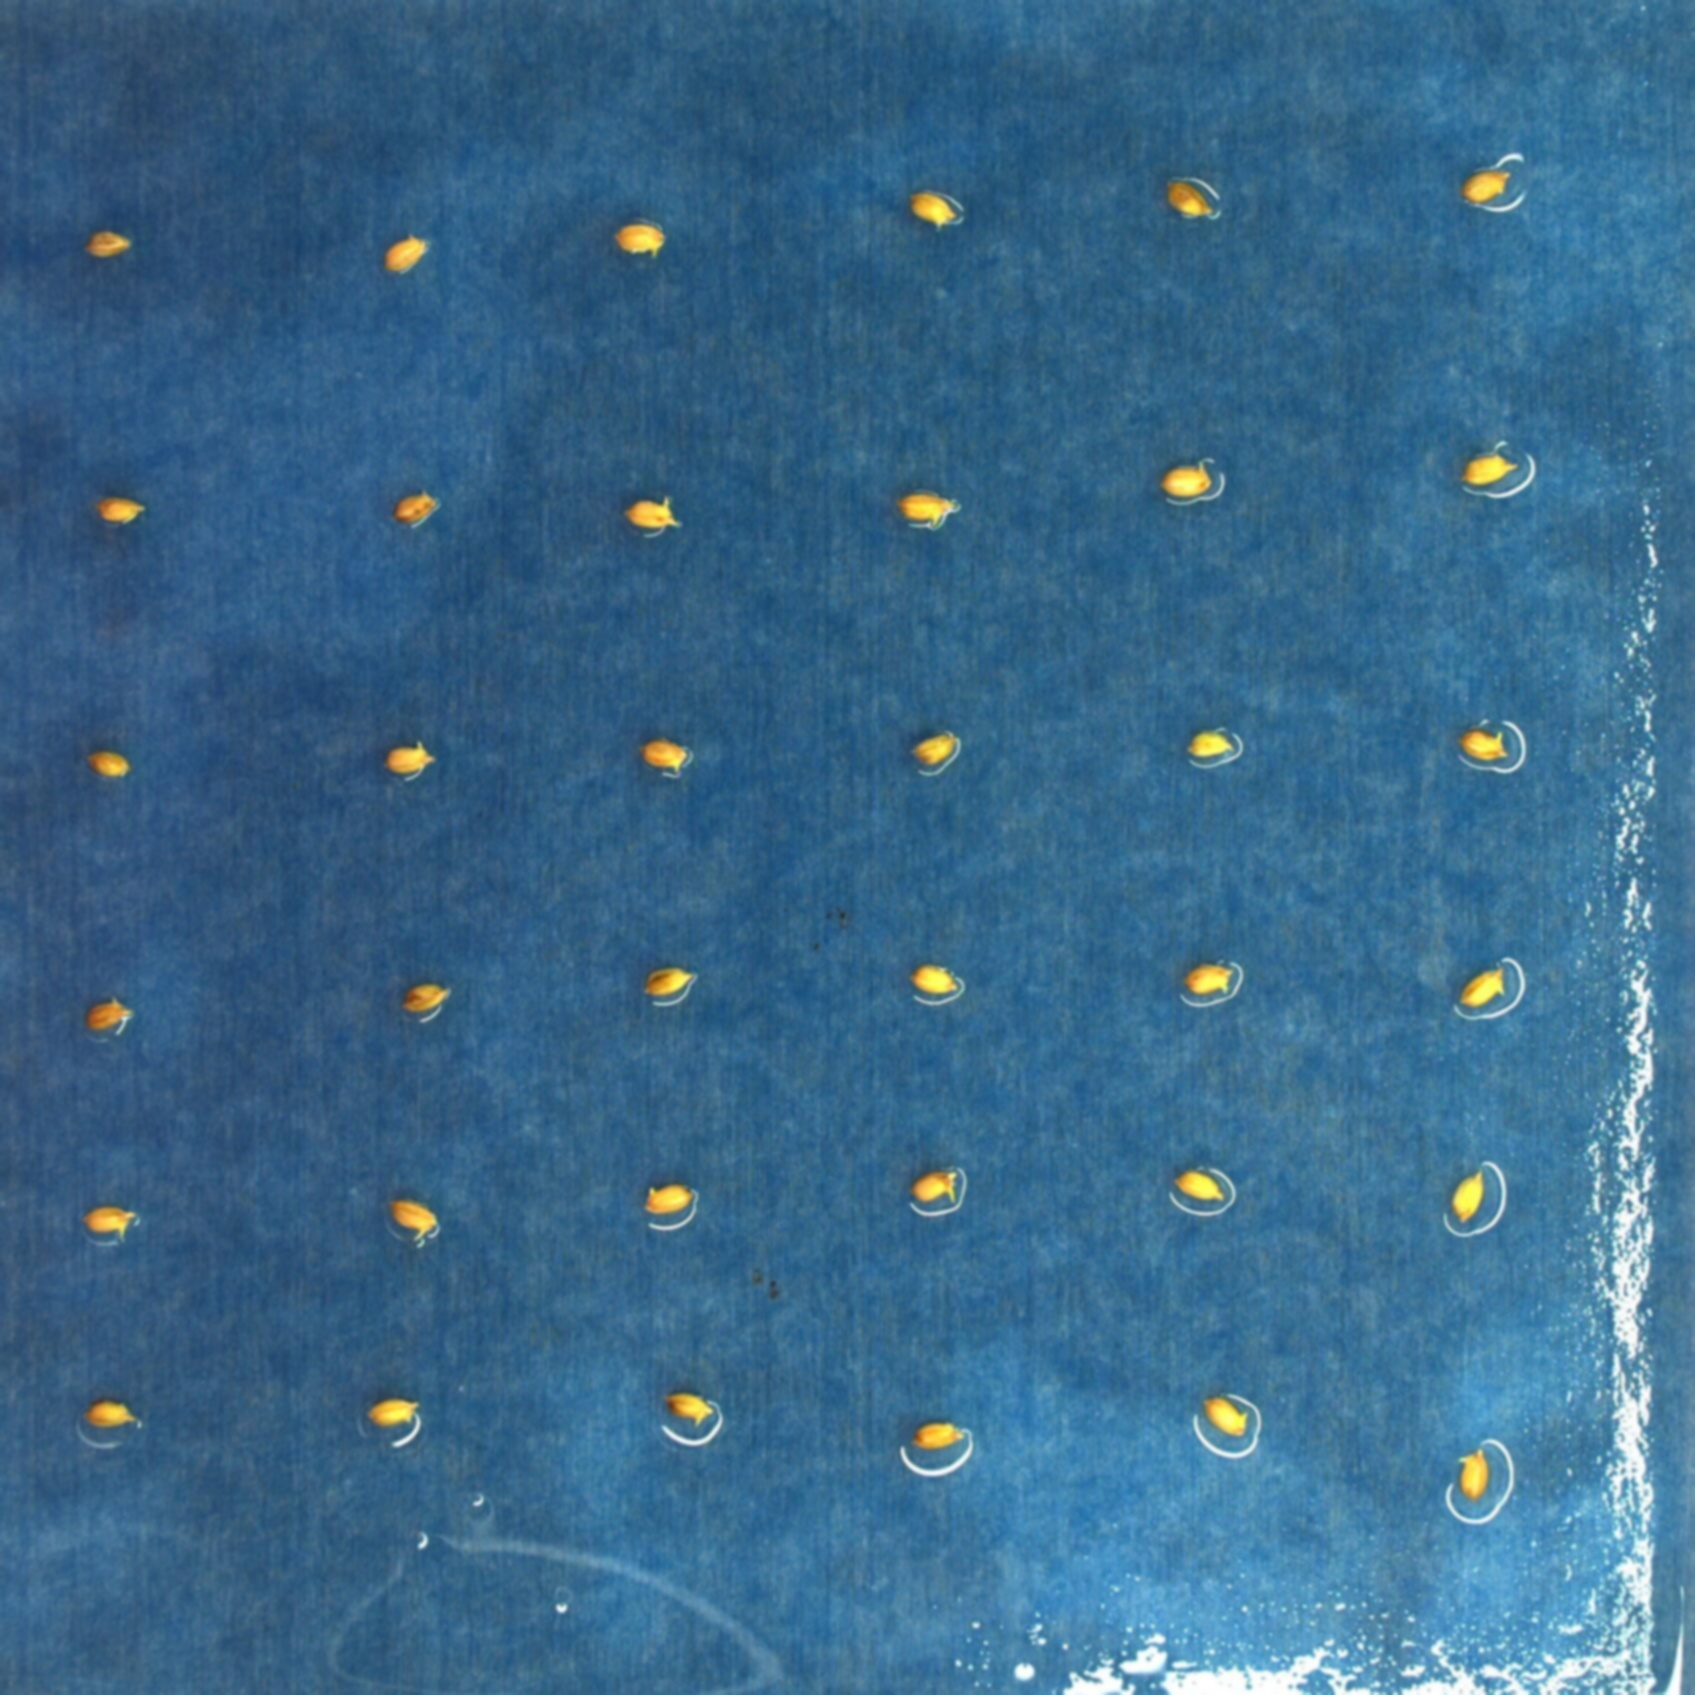not sprout: (390, 1198, 438, 1243), (1205, 1392, 1250, 1440), (1167, 179, 1215, 220), (1461, 453, 1520, 487), (1459, 967, 1509, 1007), (82, 1205, 137, 1240), (897, 492, 956, 525), (84, 1399, 140, 1433), (383, 234, 427, 276), (624, 500, 680, 532), (612, 224, 664, 258), (1159, 463, 1212, 497), (1173, 1169, 1226, 1203), (1451, 1172, 1485, 1225), (1461, 169, 1510, 205), (365, 1397, 419, 1430), (910, 191, 956, 228), (643, 1183, 692, 1217), (1461, 1445, 1492, 1499), (913, 1167, 958, 1205), (385, 744, 436, 776), (913, 733, 959, 768), (1459, 728, 1506, 764), (1184, 964, 1236, 995), (87, 1000, 132, 1034), (664, 1392, 712, 1423), (644, 969, 695, 997), (640, 739, 688, 768), (393, 494, 438, 525), (82, 231, 132, 259), (913, 1423, 964, 1450), (95, 497, 144, 523), (404, 984, 447, 1014), (913, 965, 958, 993), (87, 751, 129, 779), (1187, 733, 1232, 757)
